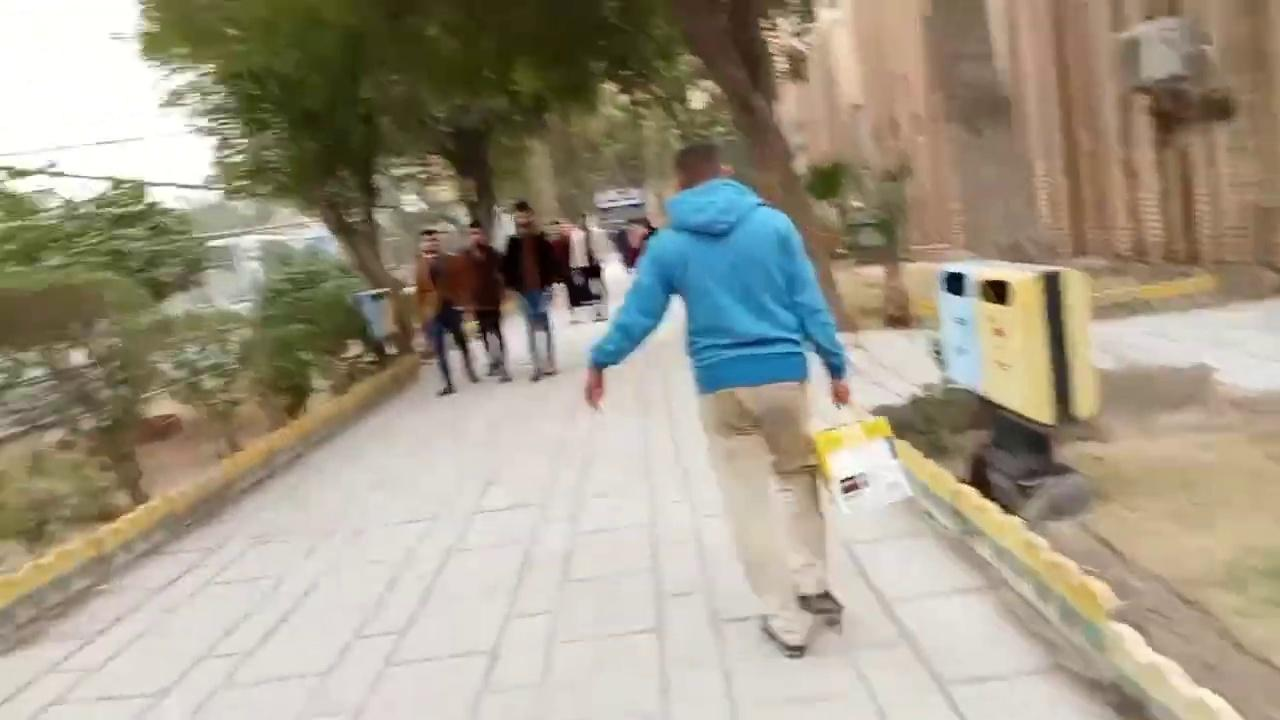person: (583, 140, 851, 657), (497, 200, 565, 381), (414, 229, 479, 395)
tree: (133, 0, 693, 353), (0, 165, 215, 508), (387, 0, 682, 246), (652, 0, 854, 331), (238, 240, 374, 422)
